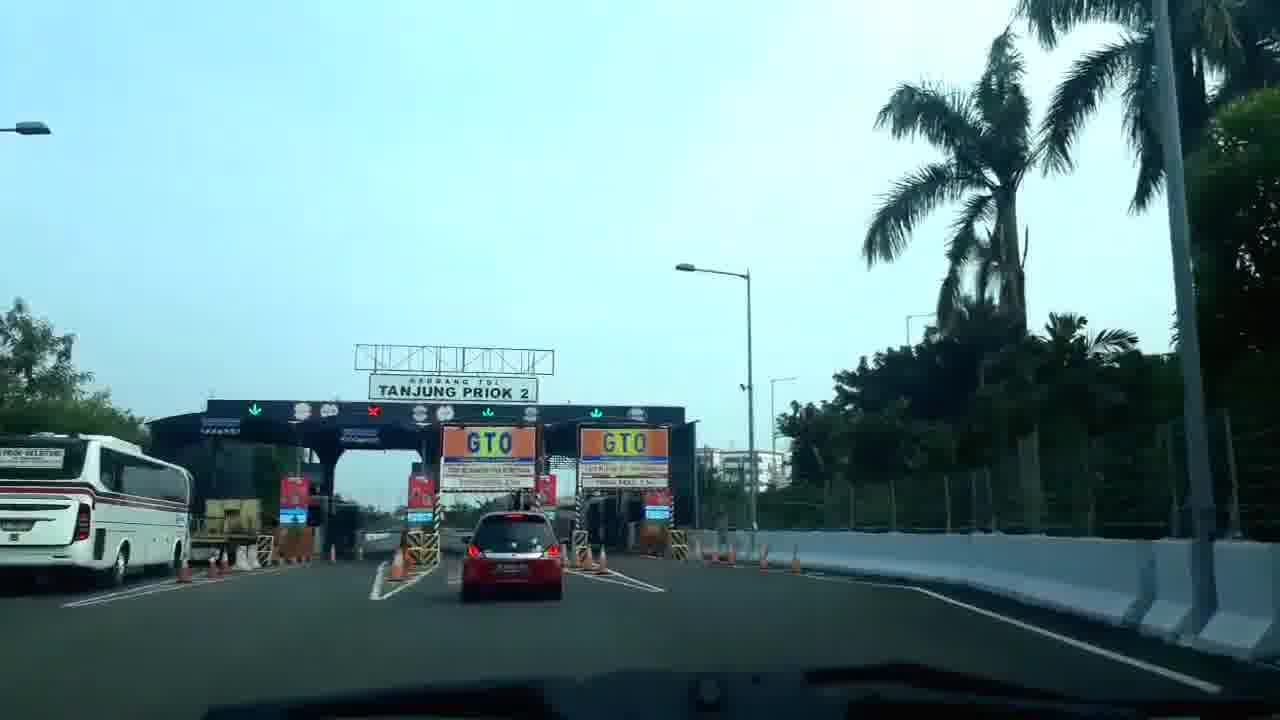plate_positive: (496, 562, 531, 576)
